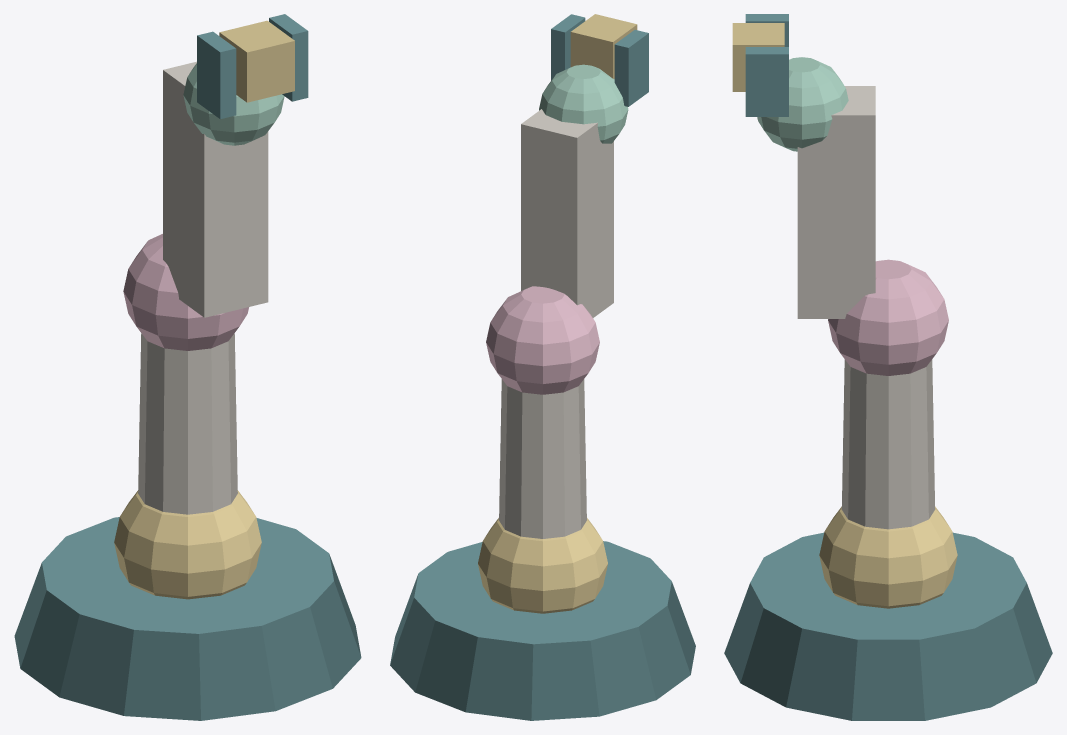
The model's file is robot_arm.glb.
3 views of the same model, side by side, from view 1: azimuth 30°, elevation 25°; view 2: azimuth 150°, elevation 25°; view 3: azimuth 270°, elevation 25° (orthographic). The views are drawn at different scales.
Visible parts, largest first — view 1: robot_arm; view 2: robot_arm; view 3: robot_arm.
Boxes of the visible parts, bbox=[...] form: robot_arm: bbox=[14, 14, 361, 720]; robot_arm: bbox=[390, 14, 695, 720]; robot_arm: bbox=[724, 14, 1052, 720].
Bounding box in the file's own units: 0.7409 × 1.58 × 0.76.
